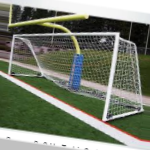goals: (8, 31, 144, 121)
